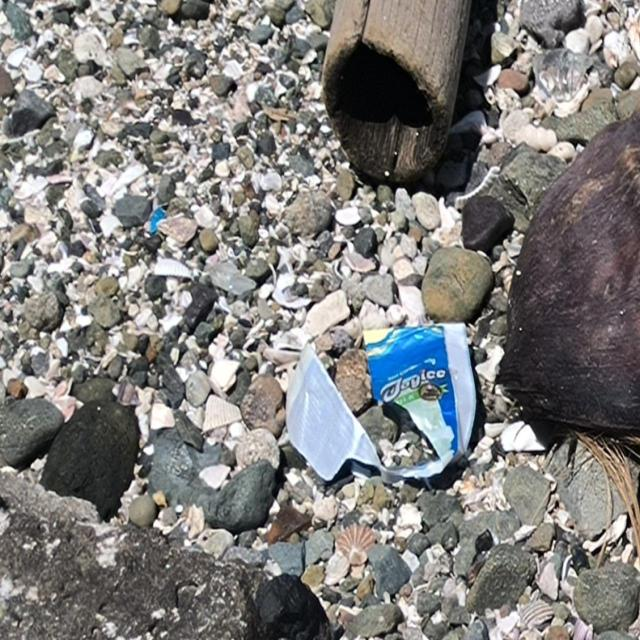plastic_waste: (286, 322, 479, 486)
